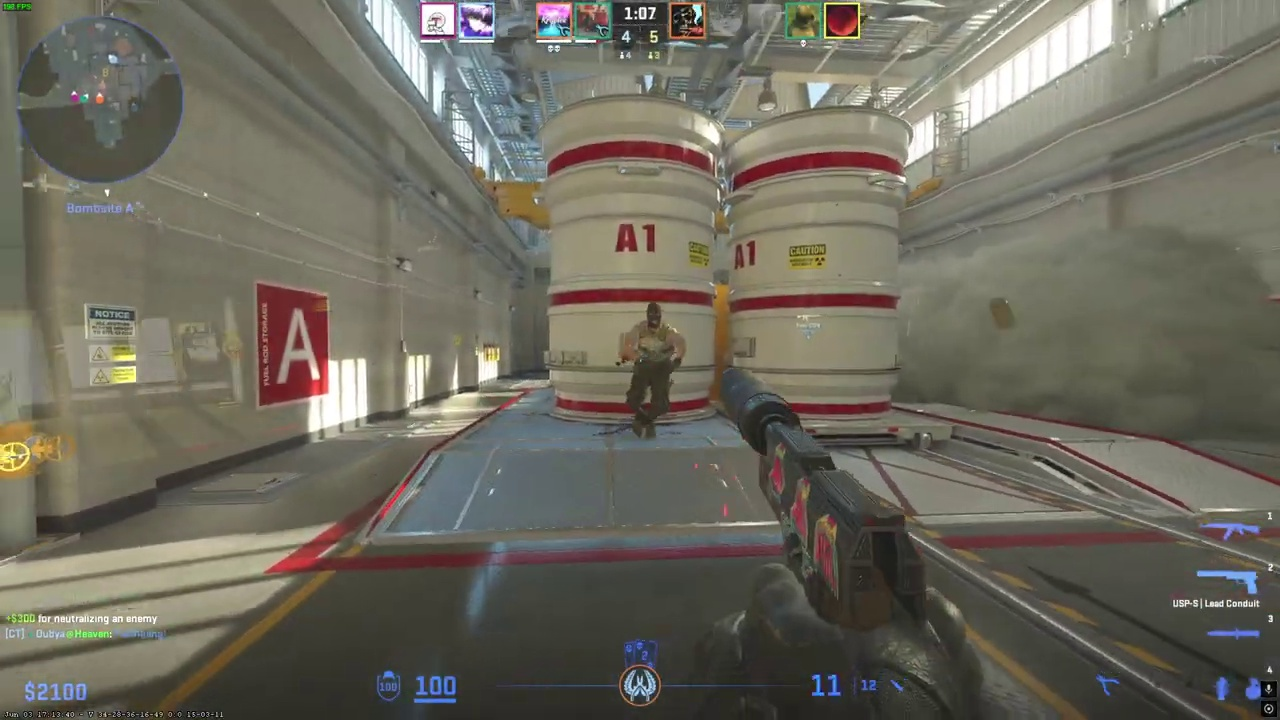Terrorist: (621, 301, 683, 440)
